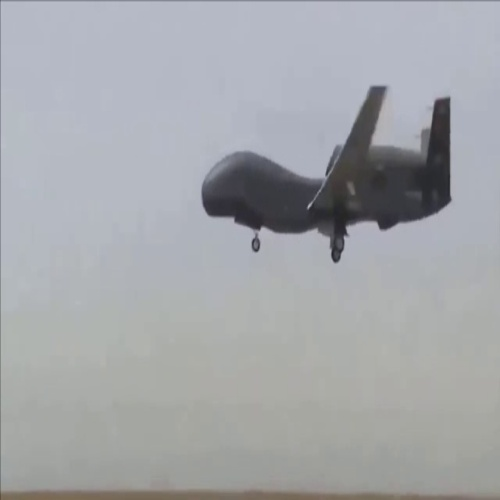uav902: (196, 86, 455, 268)
